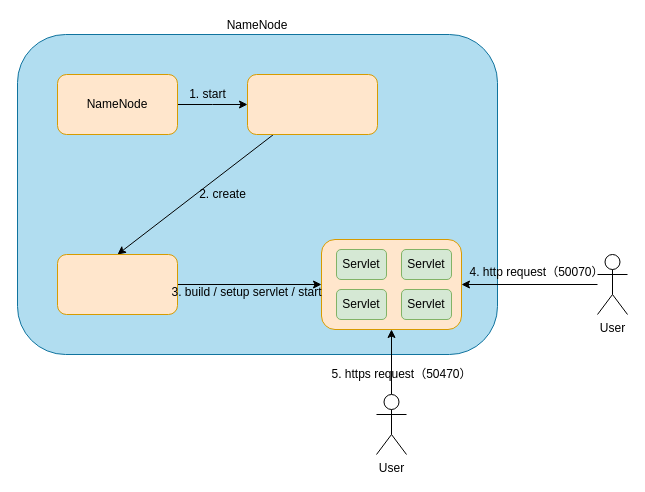
The diagram is 645 pixels wide and 492 high, and some of its shapes have lost their labels. Each missing label, with the box of its shape:
HttpServer2: (320, 238, 462, 330)
HttpServer2.Builder: (56, 254, 178, 314)
NameNodeHttpServer: (246, 74, 378, 134)
